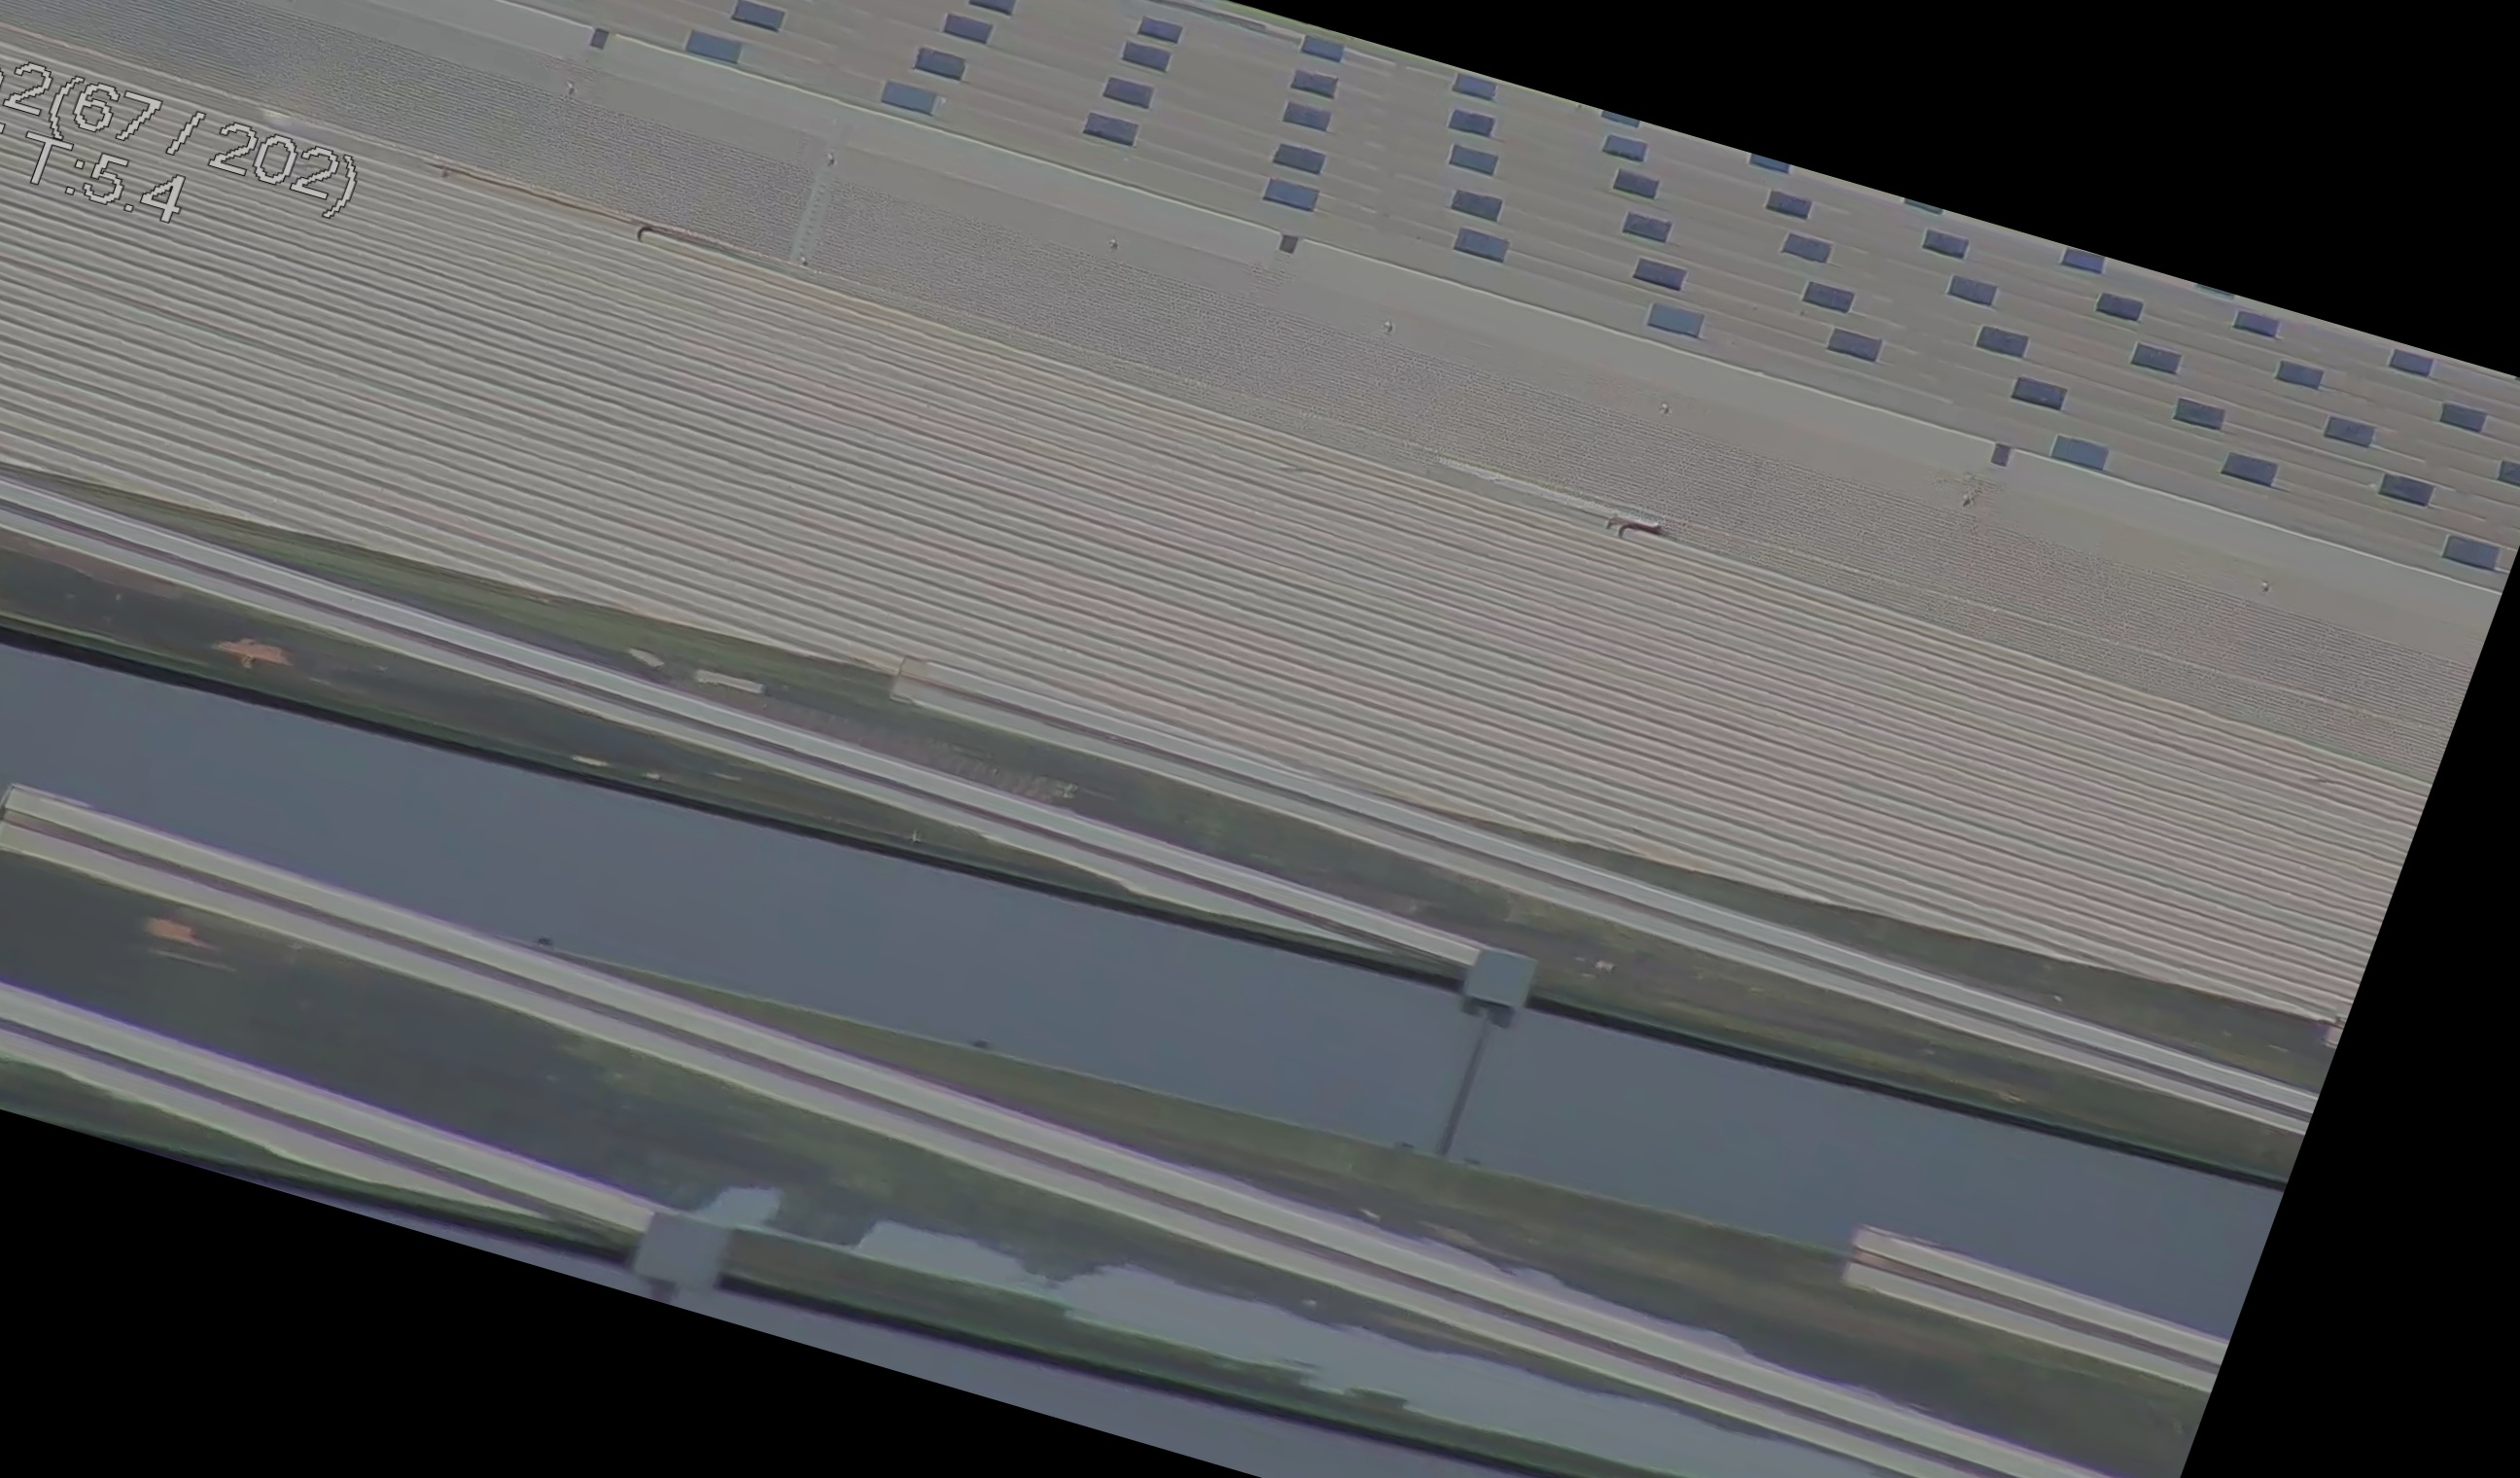Other: (1227, 0, 1431, 44)
